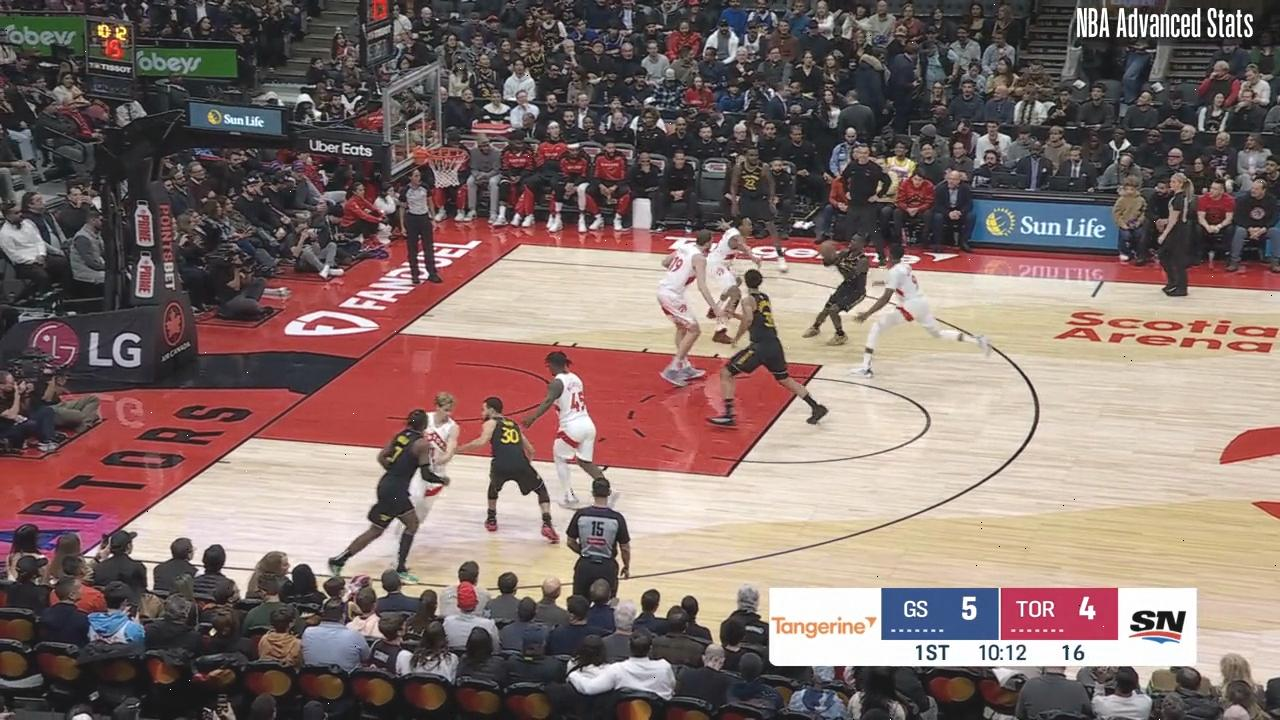basketball: (817, 240, 841, 261)
